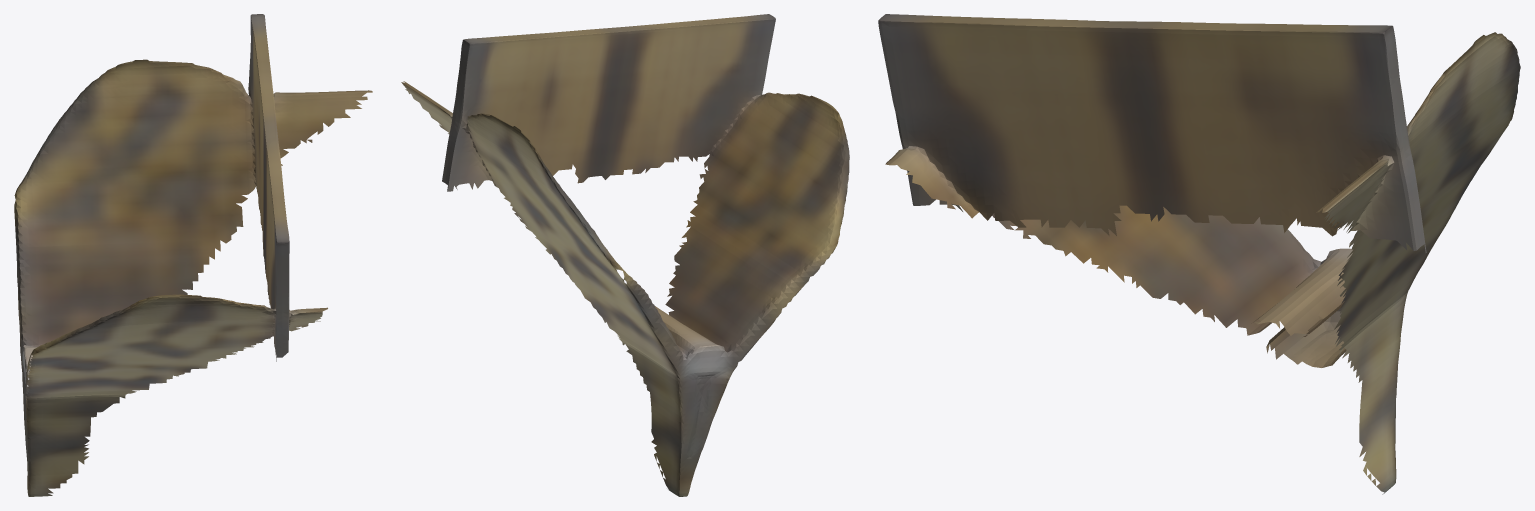
The model's file is guard-left-initializer.glb.
3 views of the same model, side by side, from view 1: azimuth 30°, elevation 25°; view 2: azimuth 150°, elevation 25°; view 3: azimuth 270°, elevation 25° (orthographic). The views are drawn at different scales.
Visible parts, largest first — view 1: geometry_0; view 2: geometry_0; view 3: geometry_0.
Boxes of the visible parts, x1,y1,x2,y2 form: geometry_0: (14, 14, 372, 496); geometry_0: (401, 14, 849, 496); geometry_0: (878, 14, 1520, 494).
Bounding box in the file's own units: 1.07 × 1.09 × 1.03.
